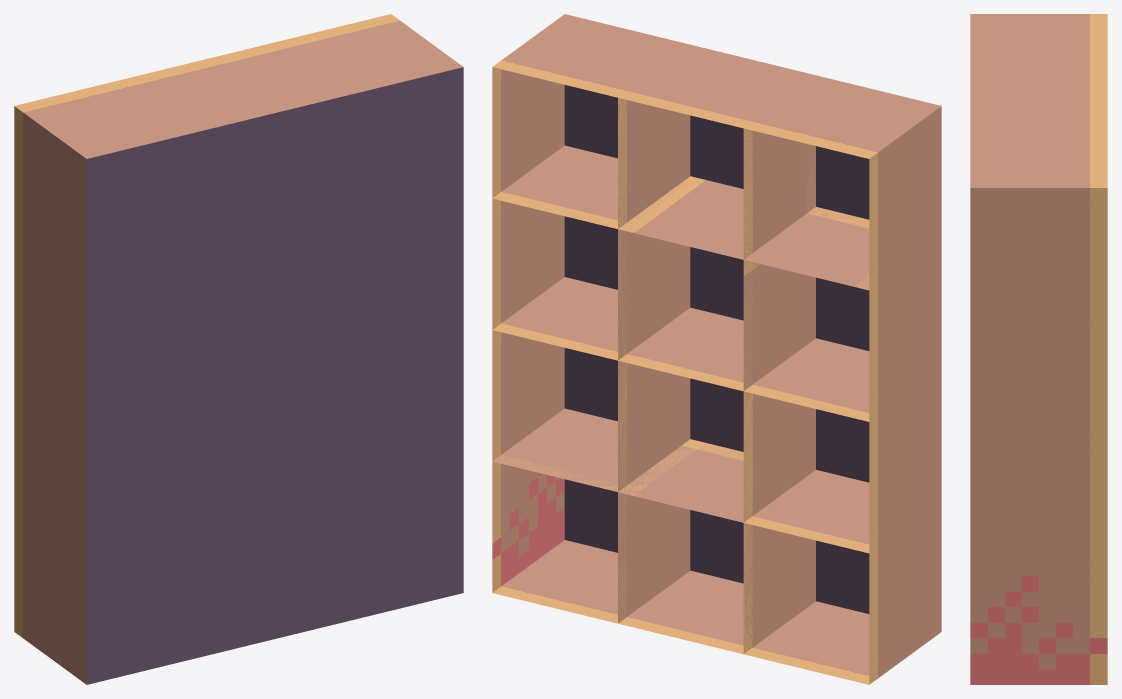
File: Armoire.glb
The picture shows the model from 3 angles, left to right: view 1: azimuth 30°, elevation 25°; view 2: azimuth 150°, elevation 25°; view 3: azimuth 270°, elevation 25°; orthographic projection. The views are drawn at different scales.
Visible parts, largest first — view 1: Armoire; view 2: Armoire; view 3: Armoire.
Boxes of the visible parts, x1,y1,x2,y2 form: Armoire: (14,14,463,684); Armoire: (492,14,941,684); Armoire: (970,14,1107,684).
Size of the model in its own units: 6 by 8 by 2.
Materials: 1 (1 with a texture image).
